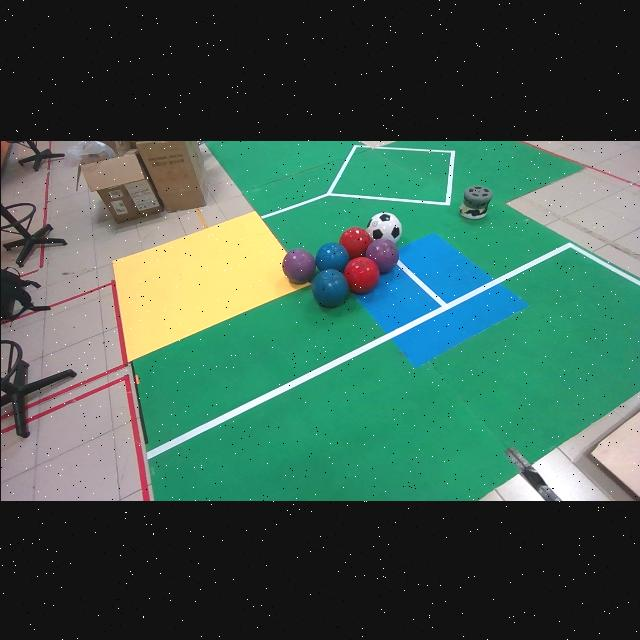B: (310, 268, 348, 306), (315, 241, 349, 271)
P: (282, 248, 315, 283), (365, 238, 398, 272)
R: (343, 258, 378, 293), (338, 226, 370, 258)
